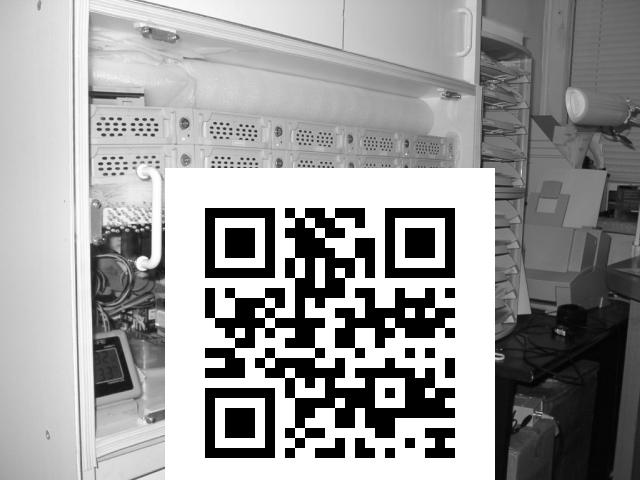qr_code: (167, 169, 494, 477)
